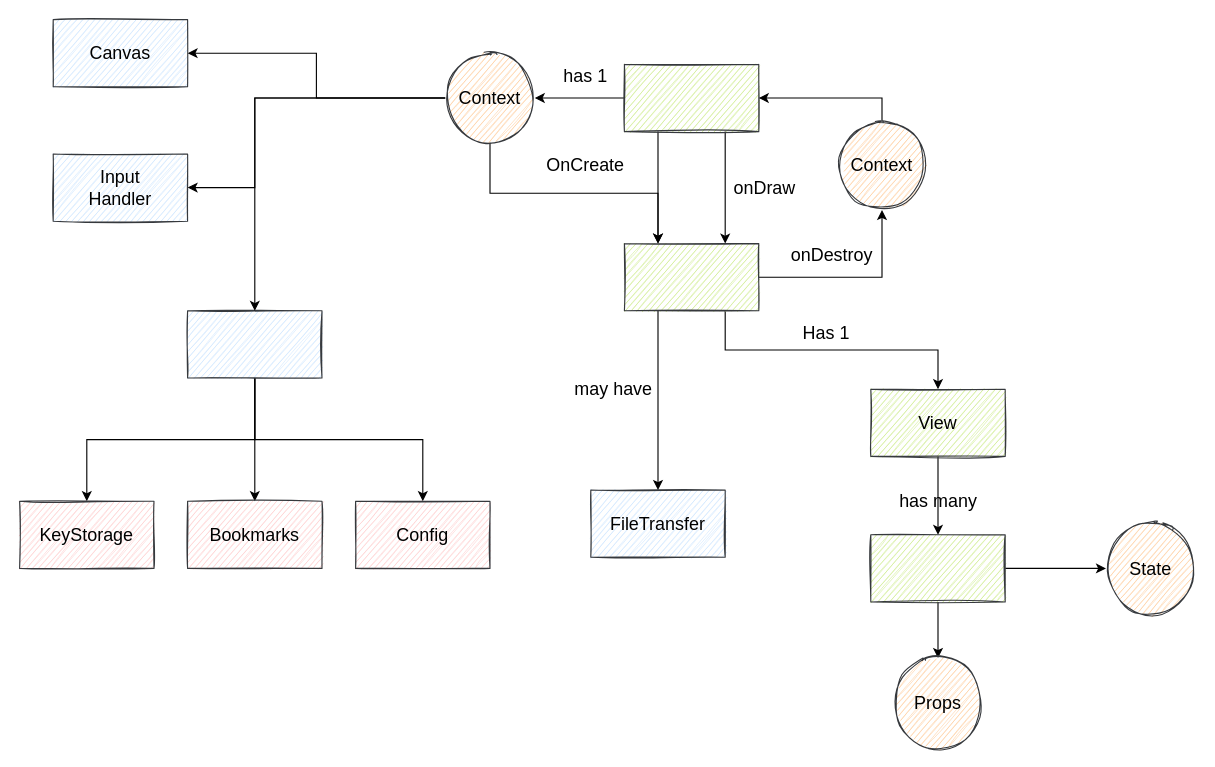
The diagram is 1215 pixels wide and 767 high, and some of its shapes have lost their labels. The shapes that lost their labels are listed below. From the top down, each one's centre as x and y in pixels, then its label:
At (691,97): "Activity Manager".
At (691,276): "Activity".
At (254,344): "System".
At (937,568): "Component".
